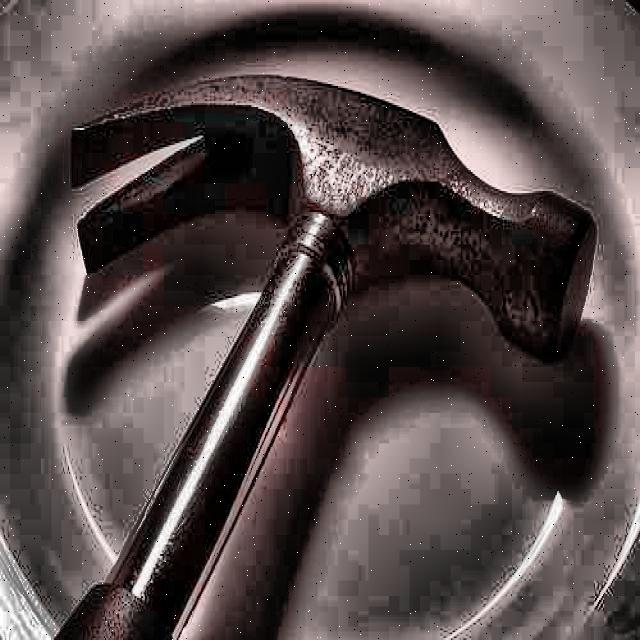hammer: (66, 69, 599, 639)
